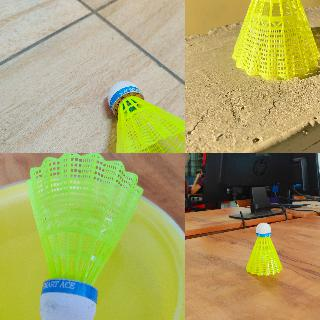shuttlecock: (26, 153, 143, 319), (232, 0, 319, 80), (100, 80, 184, 152), (246, 222, 282, 274)
